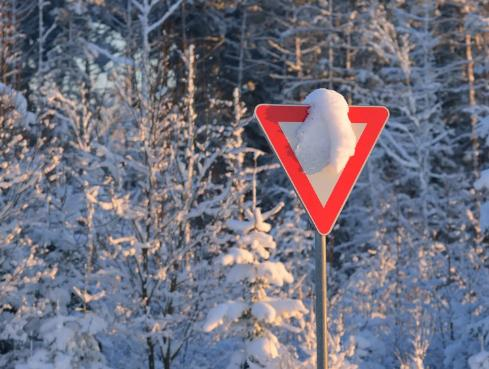obstructed_road_sign: (255, 103, 388, 234)
